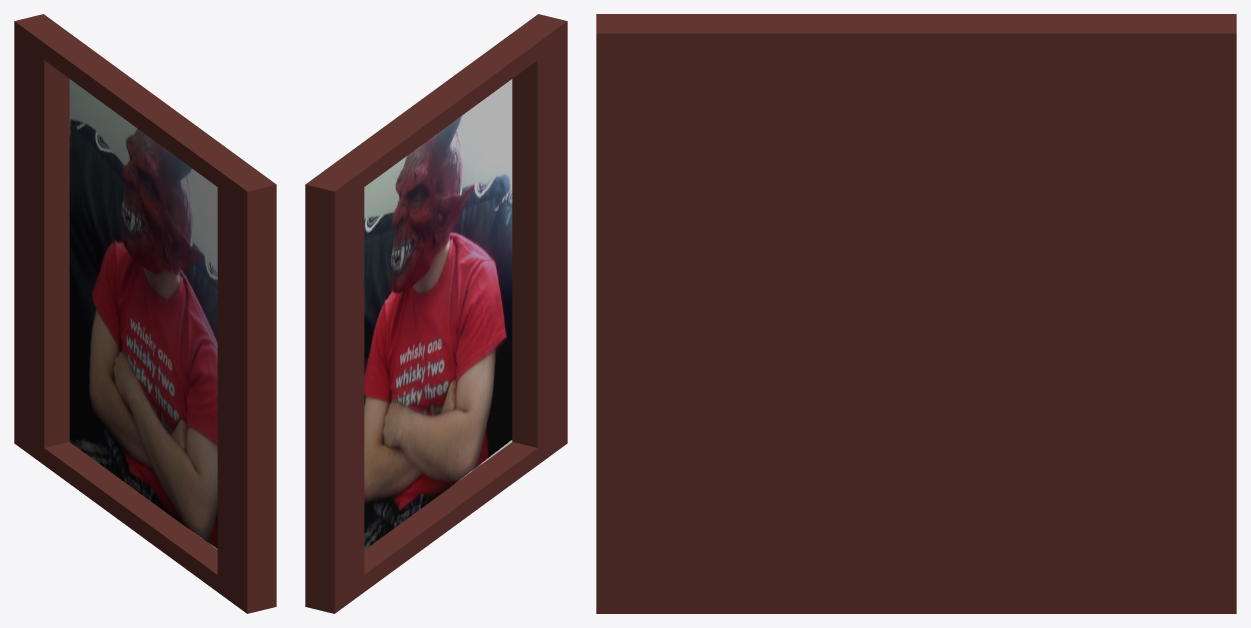
File: Portrait1.fbx
3 renders of one model, left to right at view 1: azimuth 30°, elevation 25°; view 2: azimuth 150°, elevation 25°; view 3: azimuth 270°, elevation 25°, orthographic. The views are drawn at different scales.
Visible parts, largest first — view 1: Cube.025; view 2: Cube.025; view 3: Cube.025.
Boxes of the visible parts, x1,y1,x2,y2 form: Cube.025: [14, 14, 276, 613]; Cube.025: [305, 14, 567, 613]; Cube.025: [596, 14, 1236, 613].
Bounding box in the file's own units: 20.48 × 283 × 283.
